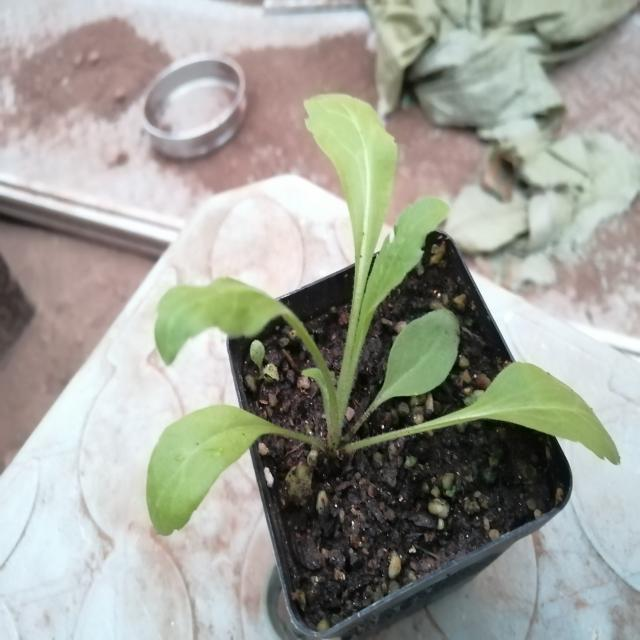horseweed: (141, 86, 600, 469)
